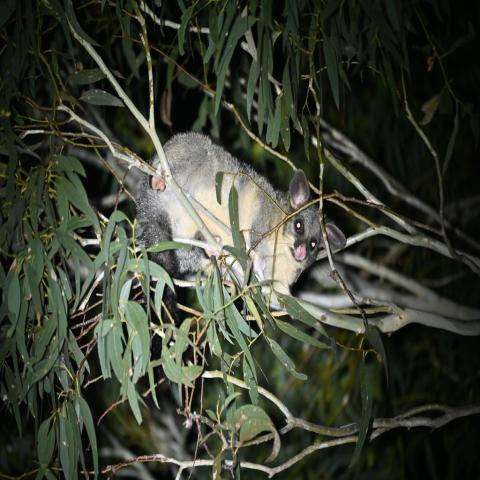small_animal: (133, 129, 347, 314)
